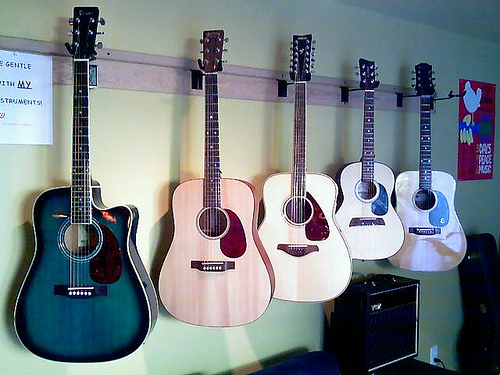guitar: (12, 2, 163, 363), (156, 27, 276, 330), (257, 30, 355, 302), (392, 60, 469, 272), (331, 57, 403, 263)
